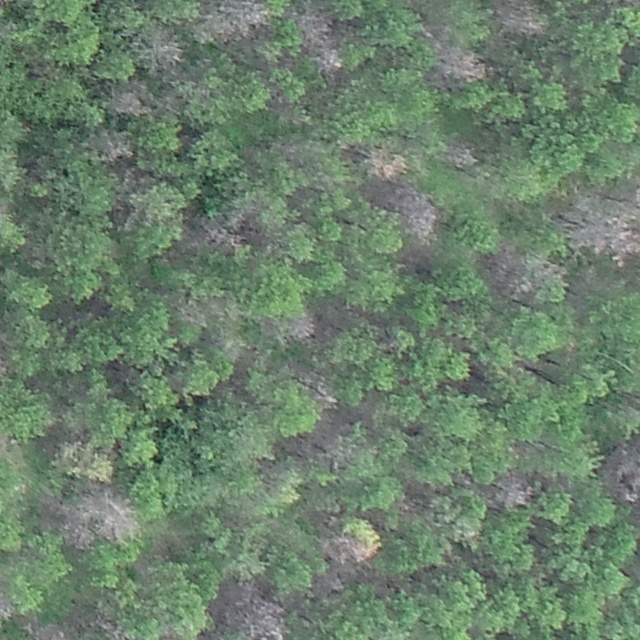unhealthy: (560, 199, 640, 264), (480, 241, 556, 302), (216, 581, 288, 638), (201, 0, 270, 40), (282, 358, 337, 405), (92, 489, 140, 542), (601, 438, 638, 506), (429, 44, 490, 84), (394, 186, 438, 241), (493, 0, 546, 37), (320, 533, 379, 566), (138, 28, 185, 67), (490, 469, 534, 510), (293, 7, 335, 48), (108, 84, 152, 119), (364, 146, 407, 181), (93, 129, 135, 162), (198, 224, 245, 251), (63, 512, 95, 551), (439, 140, 479, 171), (313, 570, 346, 597), (95, 618, 135, 640), (287, 314, 317, 342), (27, 620, 67, 640), (315, 49, 343, 77), (0, 591, 15, 624), (0, 350, 10, 381)
